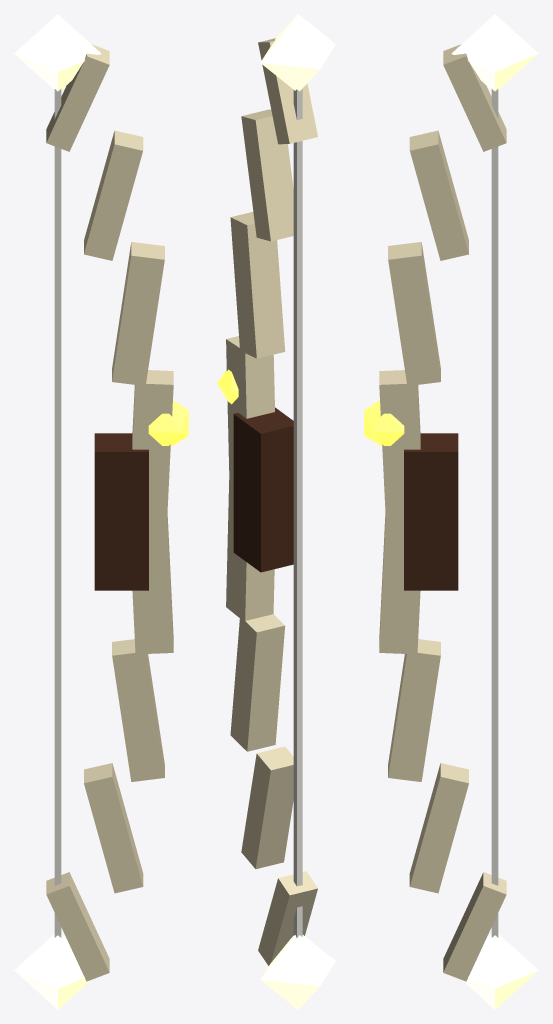
The model's file is weapon_bow_t3.glb.
3 views of the same model, side by side, from view 1: azimuth 90°, elevation 25°; view 2: azimuth 210°, elevation 25°; view 3: azimuth 270°, elevation 25° (orthographic).
Parts seen in each view (by area): view 1: item_starWood, item_leather3, item_bowStar, bowString_string, item_gem3; view 2: item_starWood, item_leather3, bowString_string, item_bowStar, item_gem3; view 3: item_starWood, item_leather3, item_bowStar, bowString_string, item_gem3.
Boxes of the visible parts, left/top/right/bottom form: item_starWood: left=46, top=44, right=173, bottom=981; item_leather3: left=94, top=433, right=148, bottom=590; item_bowStar: left=14, top=14, right=101, bottom=1009; bowString_string: left=54, top=89, right=61, bottom=937; item_gem3: left=148, top=400, right=188, bottom=446; item_starWood: left=226, top=38, right=317, bottom=965; item_leather3: left=233, top=407, right=293, bottom=572; bowString_string: left=293, top=89, right=302, bottom=937; item_bowStar: left=260, top=14, right=335, bottom=1009; item_gem3: left=217, top=369, right=238, bottom=404; item_starWood: left=379, top=44, right=506, bottom=981; item_leather3: left=404, top=433, right=458, bottom=590; item_bowStar: left=451, top=14, right=538, bottom=1009; bowString_string: left=491, top=89, right=498, bottom=937; item_gem3: left=364, top=400, right=404, bottom=446.
Size of the model in its own units: 0.08 by 1.01 by 0.1598.
